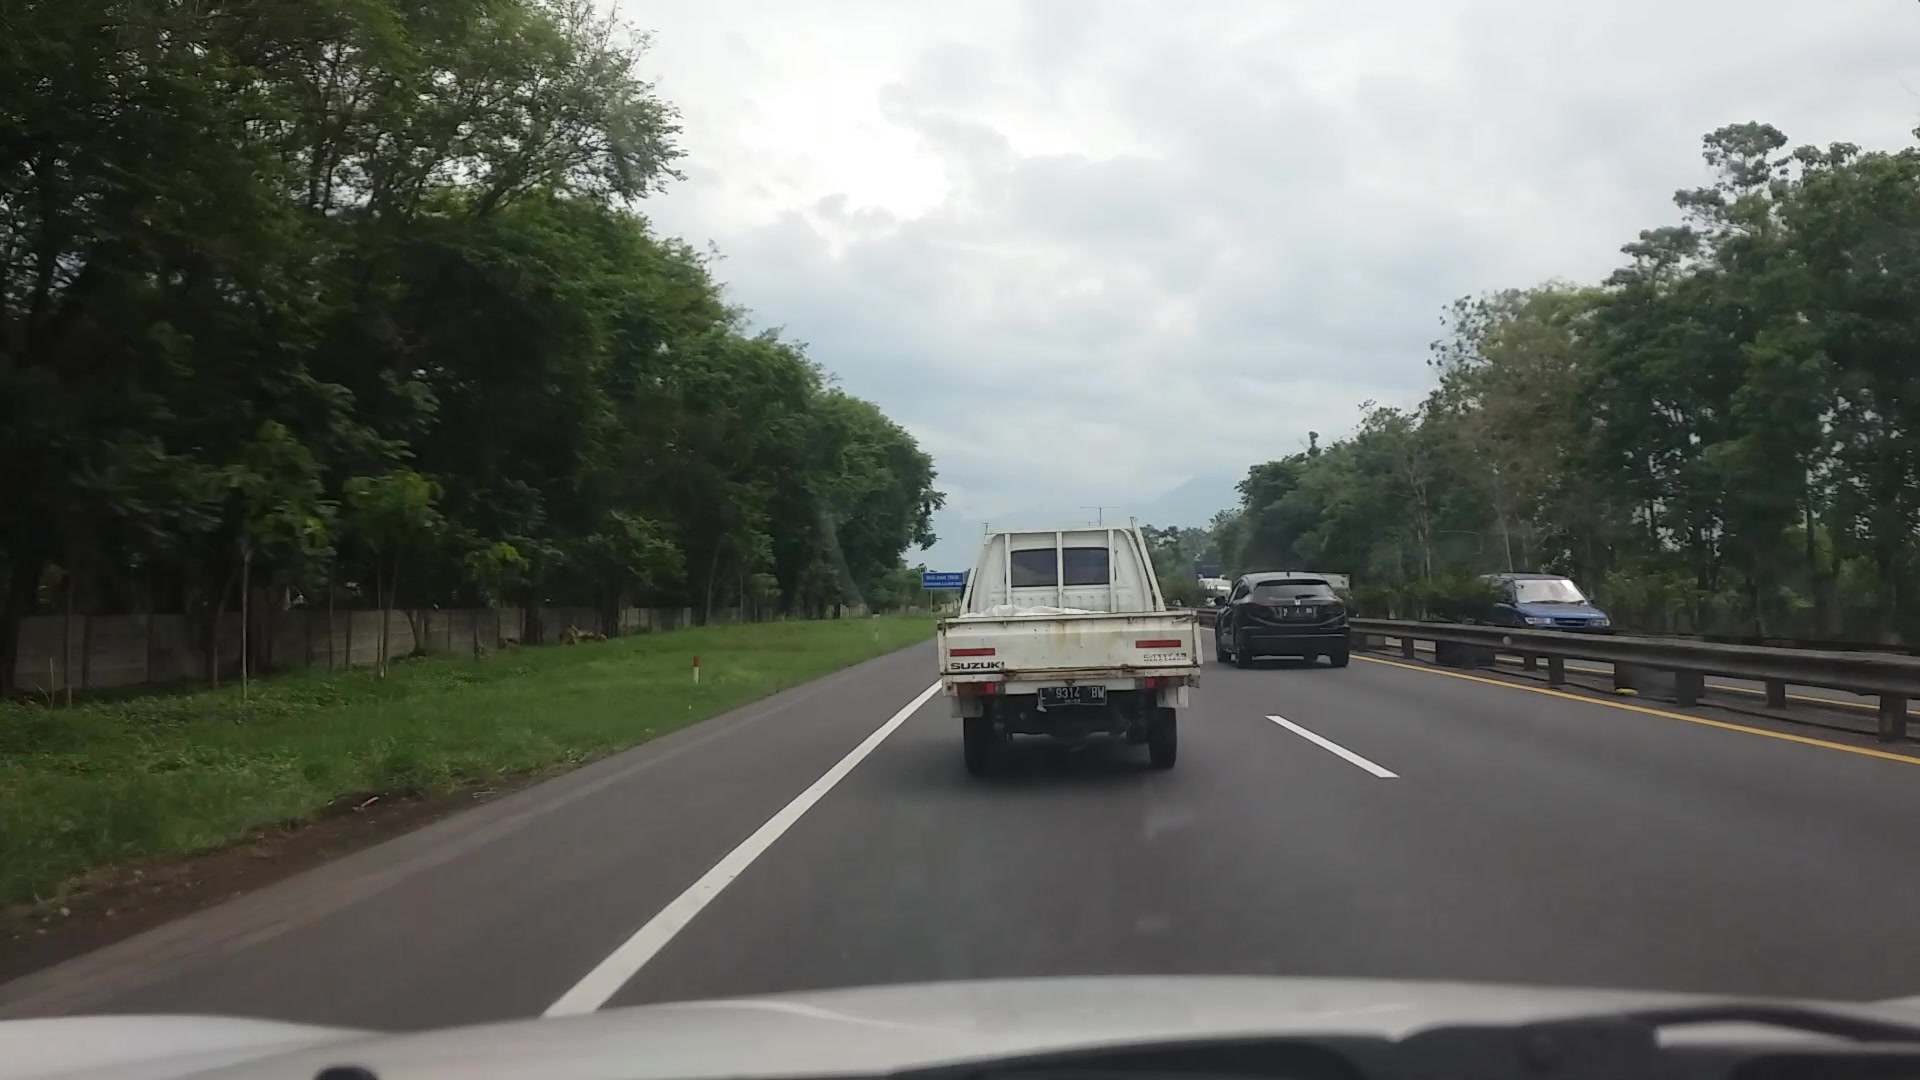plate_positive: (1038, 684, 1106, 707)
